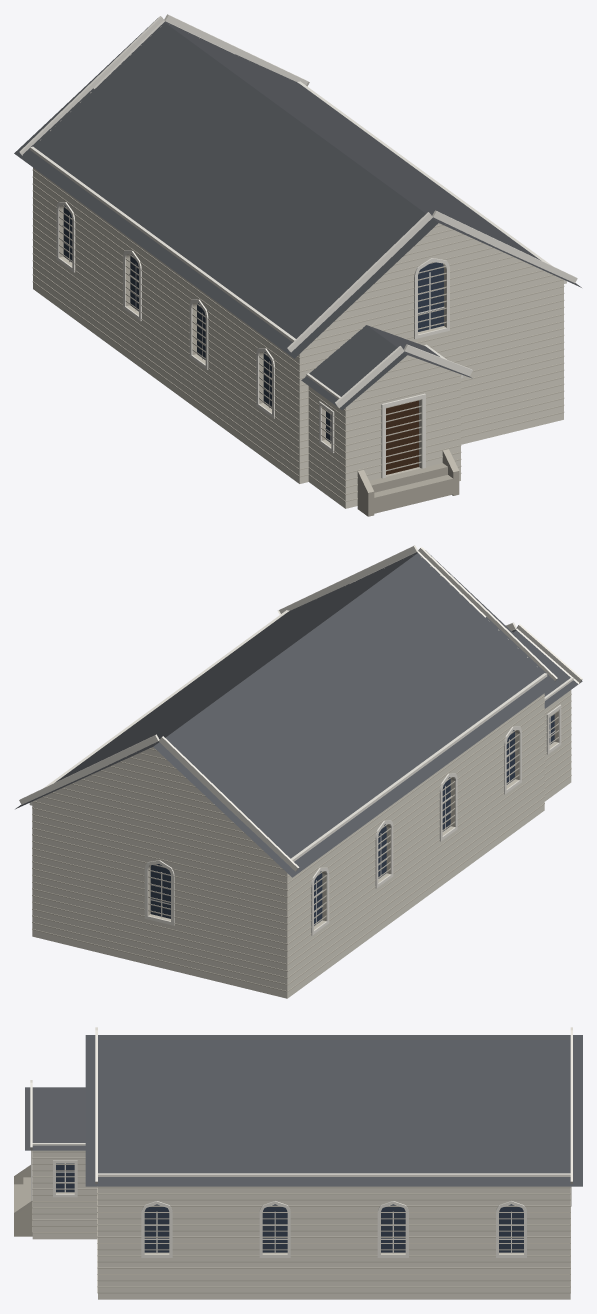
The model's file is ch-coleman-chapel-1913.glb.
The picture shows the model from 3 angles, top to bottom: view 1: azimuth 30°, elevation 25°; view 2: azimuth 150°, elevation 25°; view 3: azimuth 270°, elevation 25°; orthographic projection. The views are drawn at different scales.
Visible parts, largest first — view 1: ch_roof, ch_brick, ch_brick2, ch_trim, ch_conc, ch_stain, ch_door; view 2: ch_roof, ch_brick, ch_brick2, ch_trim, ch_stain; view 3: ch_roof, ch_brick, ch_brick2, ch_trim, ch_stain, ch_conc.
Part boxes in pixels (x1=…): ch_roof: x1=14, y1=18, x2=581, y2=410; ch_brick: x1=33, y1=167, x2=563, y2=508; ch_brick2: x1=32, y1=26, x2=564, y2=501; ch_trim: x1=19, y1=14, x2=577, y2=478; ch_conc: x1=357, y1=449, x2=459, y2=516; ch_stain: x1=63, y1=205, x2=443, y2=442; ch_door: x1=386, y1=400, x2=418, y2=474; ch_roof: x1=15, y1=550, x2=582, y2=877; ch_brick: x1=32, y1=690, x2=571, y2=998; ch_brick2: x1=32, y1=557, x2=571, y2=992; ch_trim: x1=19, y1=545, x2=582, y2=935; ch_stain: x1=150, y1=714, x2=554, y2=925; ch_roof: x1=25, y1=1035, x2=582, y2=1186; ch_brick: x1=32, y1=1150, x2=570, y2=1299; ch_brick2: x1=32, y1=1151, x2=570, y2=1293; ch_trim: x1=30, y1=1027, x2=572, y2=1257; ch_stain: x1=56, y1=1163, x2=523, y2=1252; ch_conc: x1=14, y1=1165, x2=32, y2=1236.
Size of the model in its own units: 9.53 by 7.68 by 18.3.
